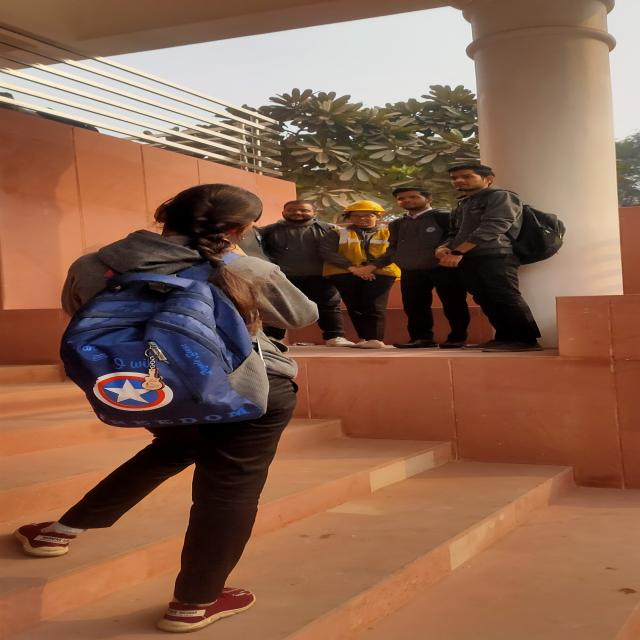safe: (334, 201, 397, 350)
unsafe: (53, 177, 302, 640), (438, 164, 538, 352), (383, 188, 469, 348), (263, 200, 339, 349)
